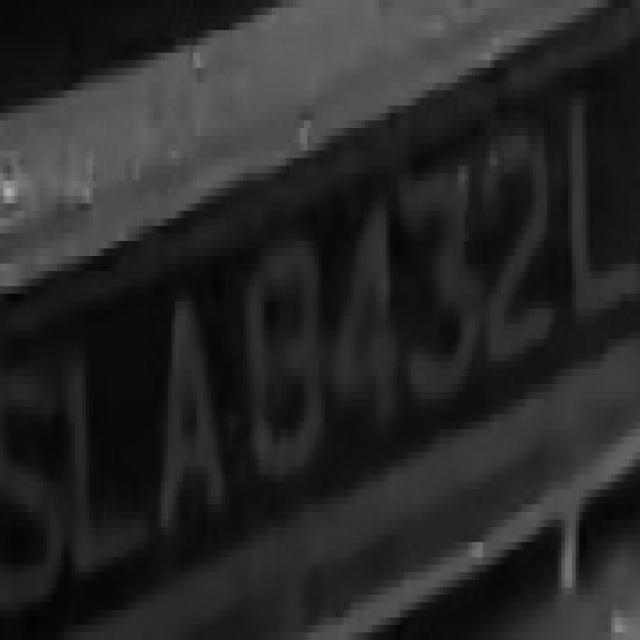2: (461, 98, 558, 399)
3: (397, 150, 479, 452)
4: (318, 188, 411, 504)
8: (243, 226, 333, 504)
A: (143, 264, 240, 564)
L: (54, 309, 154, 595), (561, 61, 640, 332)
S: (8, 354, 64, 640)
